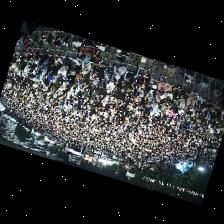person: (123, 60, 140, 83), (57, 58, 69, 78), (62, 68, 75, 84), (139, 70, 150, 88), (92, 62, 105, 76), (37, 57, 48, 73), (157, 81, 170, 94), (78, 70, 90, 83), (92, 71, 104, 83), (113, 65, 125, 77), (70, 58, 81, 71), (129, 79, 138, 94), (90, 84, 100, 97), (106, 76, 114, 92), (146, 86, 155, 100), (81, 61, 91, 73), (171, 86, 181, 98), (120, 80, 129, 93), (54, 52, 62, 66), (164, 98, 174, 109), (202, 100, 212, 111), (43, 71, 52, 83), (113, 74, 122, 86), (29, 59, 38, 71), (164, 88, 172, 101), (93, 78, 102, 89), (39, 52, 48, 63), (106, 64, 113, 78), (186, 97, 194, 109), (48, 73, 56, 85), (100, 84, 107, 97), (195, 93, 202, 106), (24, 51, 33, 61), (178, 97, 184, 112), (102, 68, 108, 83), (46, 55, 54, 66), (192, 104, 200, 115), (168, 109, 175, 121), (213, 105, 221, 114), (150, 79, 158, 88), (101, 94, 108, 104), (210, 100, 216, 111), (156, 94, 163, 103), (161, 104, 167, 114), (138, 85, 143, 96), (27, 57, 33, 65), (171, 98, 179, 104), (19, 51, 25, 59), (114, 86, 120, 94), (34, 52, 40, 59), (155, 88, 160, 96), (15, 51, 19, 57), (221, 107, 223, 118)
